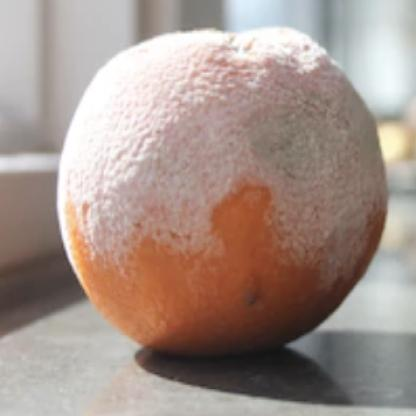rotten: (60, 28, 390, 358)
